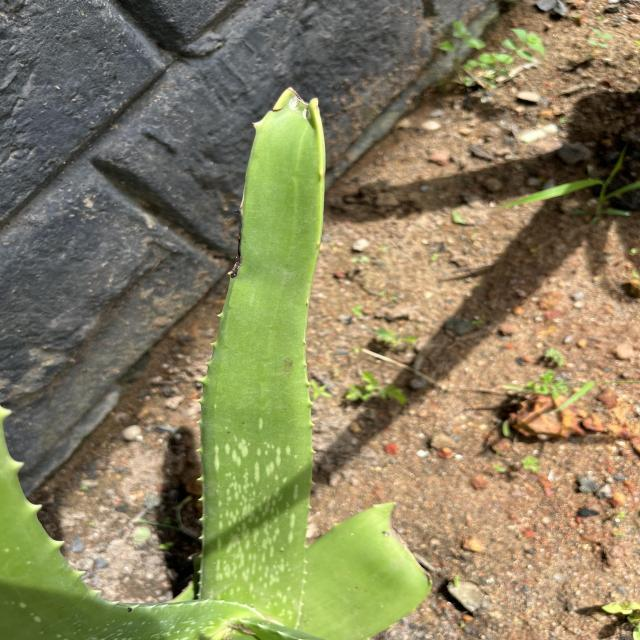Aloe vera: (187, 81, 336, 625)
